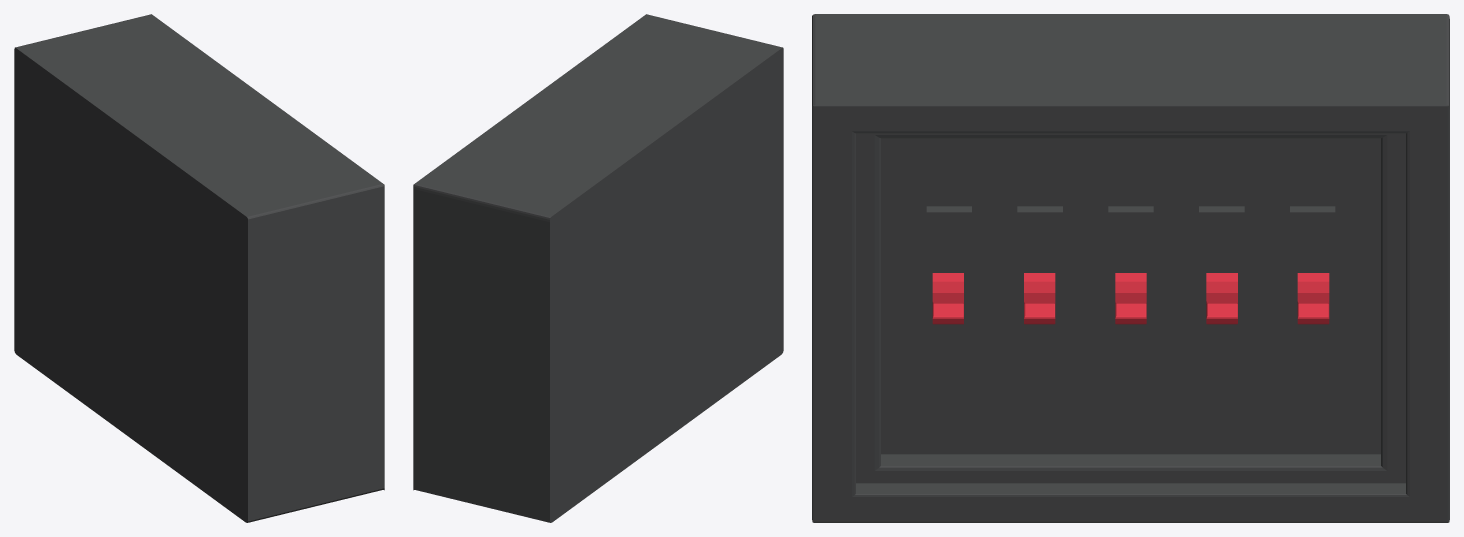
Rendered from CircuitBox.fbx.
The picture shows the model from 3 angles, left to right: view 1: azimuth 30°, elevation 25°; view 2: azimuth 150°, elevation 25°; view 3: azimuth 270°, elevation 25°; orthographic projection. The views are drawn at different scales.
Visible parts, largest first — view 1: Cube; view 2: Cube; view 3: Cube, Cylinder.
Part boxes in pixels (x1=…): Cube: x1=14, y1=14, x2=384, y2=522; Cube: x1=413, y1=14, x2=783, y2=522; Cube: x1=812, y1=14, x2=1449, y2=522; Cylinder: x1=932, y1=273, x2=1329, y2=324.
Bounding box in the file's own units: 67.66 × 145 × 200.
